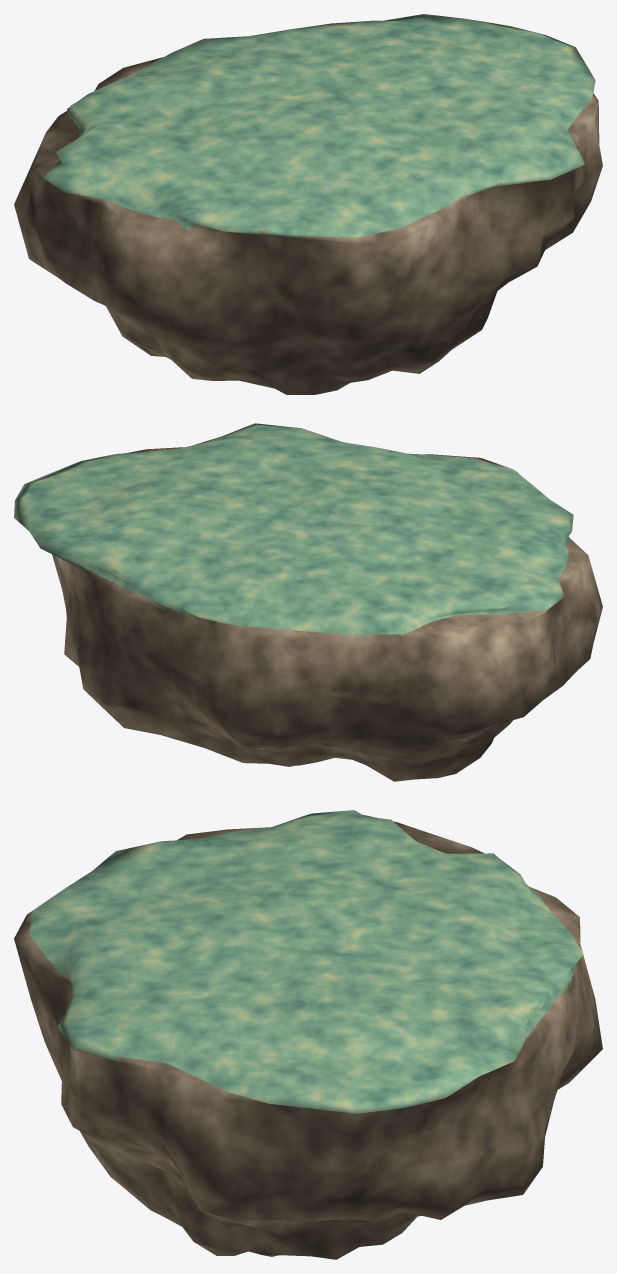
Rendered from xen_isla.obj.
3 views of the same model, one above another, from view 1: azimuth 30°, elevation 25°; view 2: azimuth 150°, elevation 25°; view 3: azimuth 270°, elevation 25° (orthographic). The views are drawn at different scales.
Parts seen in each view (by area): view 1: xen_isla; view 2: xen_isla; view 3: xen_isla.
Boxes of the visible parts, box(x1,y1,x2,y2) form: xen_isla: box(14, 14, 602, 394); xen_isla: box(14, 423, 602, 781); xen_isla: box(14, 810, 602, 1259).
Size of the model in its own units: 4.25 by 1.91 by 3.49.
